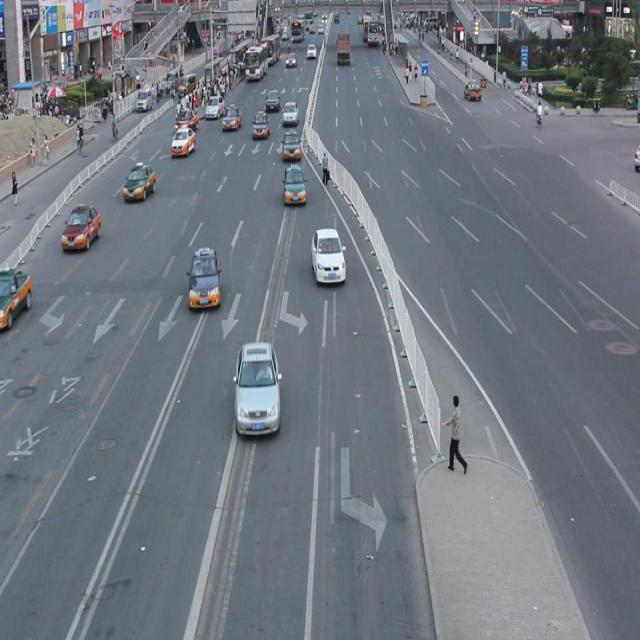car: (233, 339, 282, 436), (187, 246, 221, 310), (310, 225, 346, 285), (61, 202, 102, 251), (1, 266, 33, 328), (122, 161, 157, 203), (282, 163, 306, 208)
